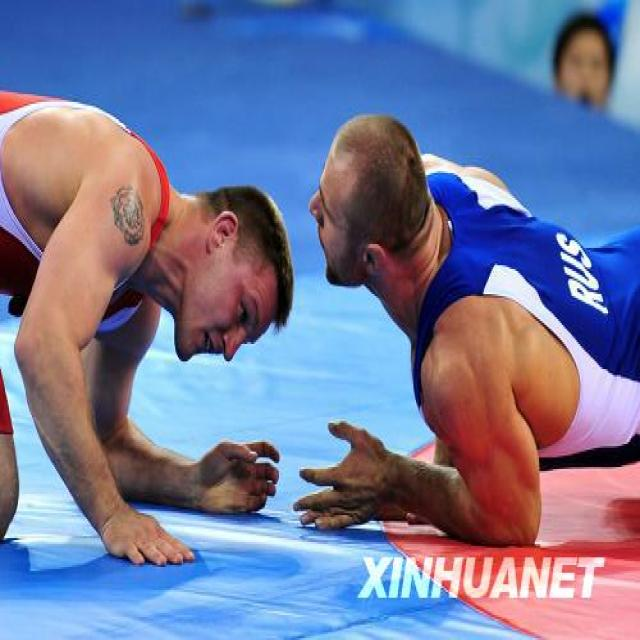fall: (318, 129, 634, 546)
